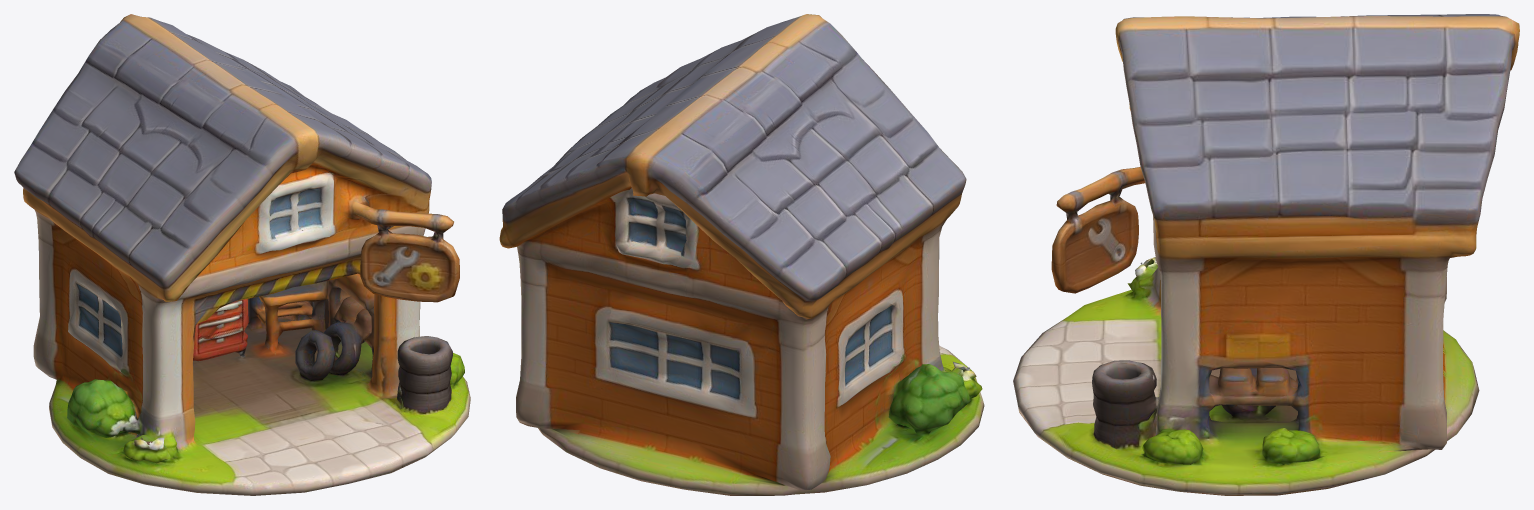
Rendered from 12-garage.glb.
3 views of the same model, side by side, from view 1: azimuth 30°, elevation 25°; view 2: azimuth 150°, elevation 25°; view 3: azimuth 270°, elevation 25° (orthographic). The views are drawn at different scales.
Parts seen in each view (by area): view 1: tripo_node_6cfdbbab-8e35-461c-bb1a-c4727eef820f; view 2: tripo_node_6cfdbbab-8e35-461c-bb1a-c4727eef820f; view 3: tripo_node_6cfdbbab-8e35-461c-bb1a-c4727eef820f.
Part boxes in pixels (box(x1,y1,x2,y2)): tripo_node_6cfdbbab-8e35-461c-bb1a-c4727eef820f: box(14, 14, 470, 495); tripo_node_6cfdbbab-8e35-461c-bb1a-c4727eef820f: box(499, 14, 984, 495); tripo_node_6cfdbbab-8e35-461c-bb1a-c4727eef820f: box(1013, 14, 1519, 495).
Size of the model in its own units: 0.9638 by 0.7866 by 0.9753.
1 material, 1 textured.
